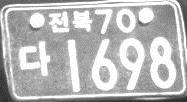0: (115, 7, 137, 34)
1: (65, 37, 82, 94)
6: (90, 36, 119, 91)
7: (92, 7, 112, 34)
8: (147, 34, 177, 89)
9: (118, 36, 146, 91)
다: (18, 40, 51, 77)
전북_O: (47, 9, 93, 33)
